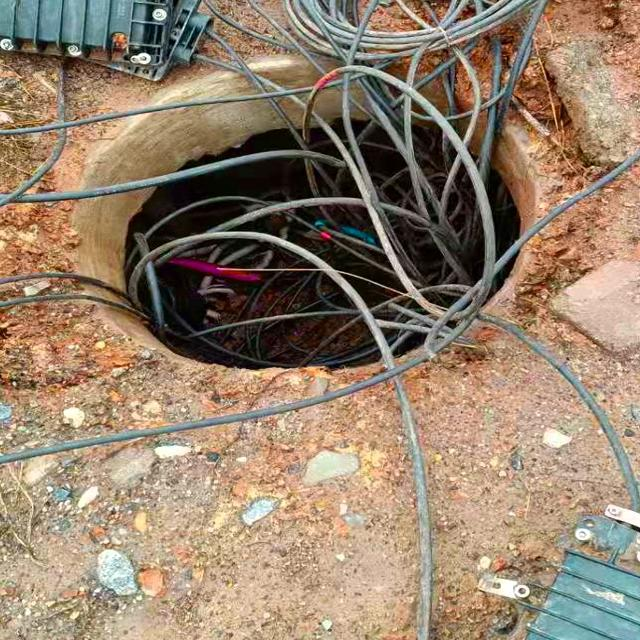lose: (75, 68, 550, 369)
